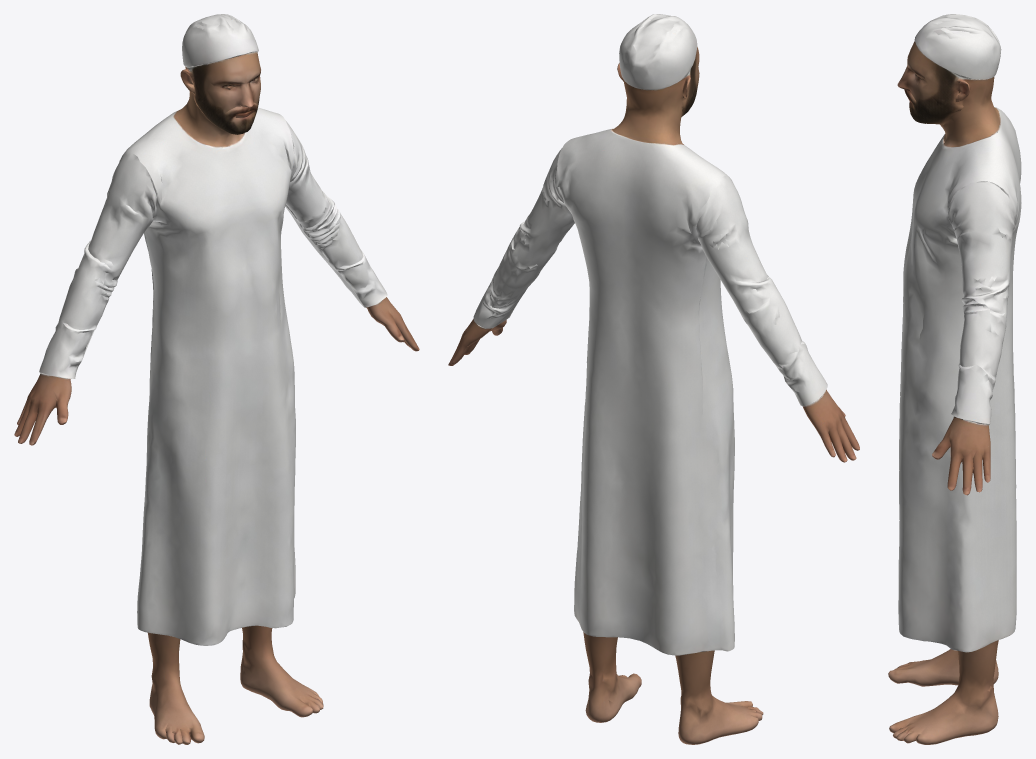
File: levi_3.glb
3 renders of one model, left to right at view 1: azimuth 30°, elevation 25°; view 2: azimuth 150°, elevation 25°; view 3: azimuth 270°, elevation 25°, orthographic.
Parts seen in each view (by area): view 1: Mesh; view 2: Mesh; view 3: Mesh.
Boxes of the visible parts, x1,y1,x2,y2 form: Mesh: (14,14,419,744); Mesh: (448,14,859,744); Mesh: (888,14,1021,744).
Bounding box in the file's own units: 1.14 × 1.9 × 0.331.
1 material, 1 textured.
